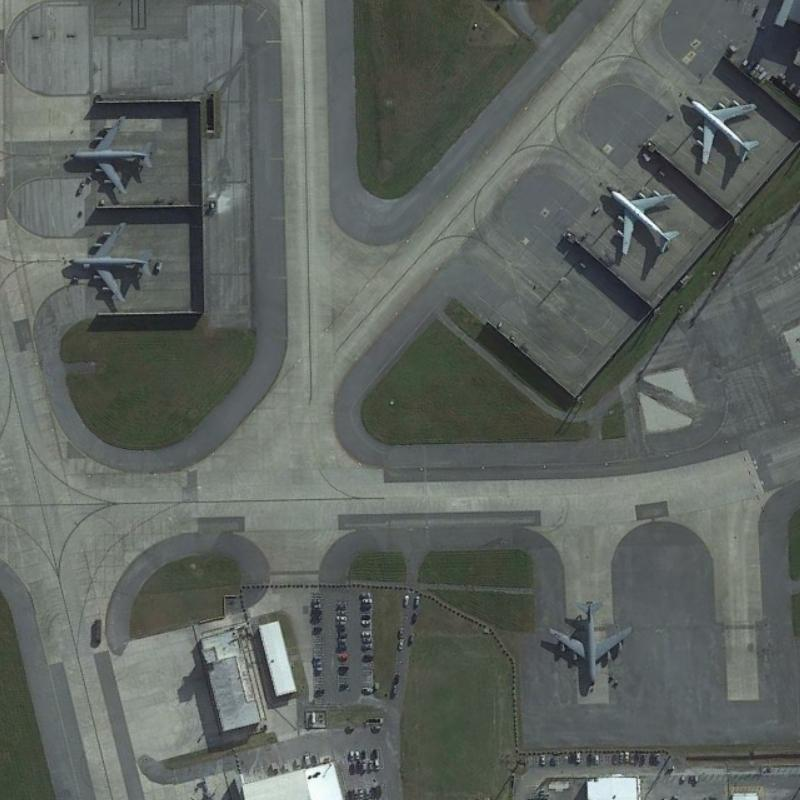A11: (599, 177, 685, 265), (679, 87, 764, 168)
A14: (536, 590, 637, 696), (51, 108, 159, 199), (63, 214, 156, 306)
